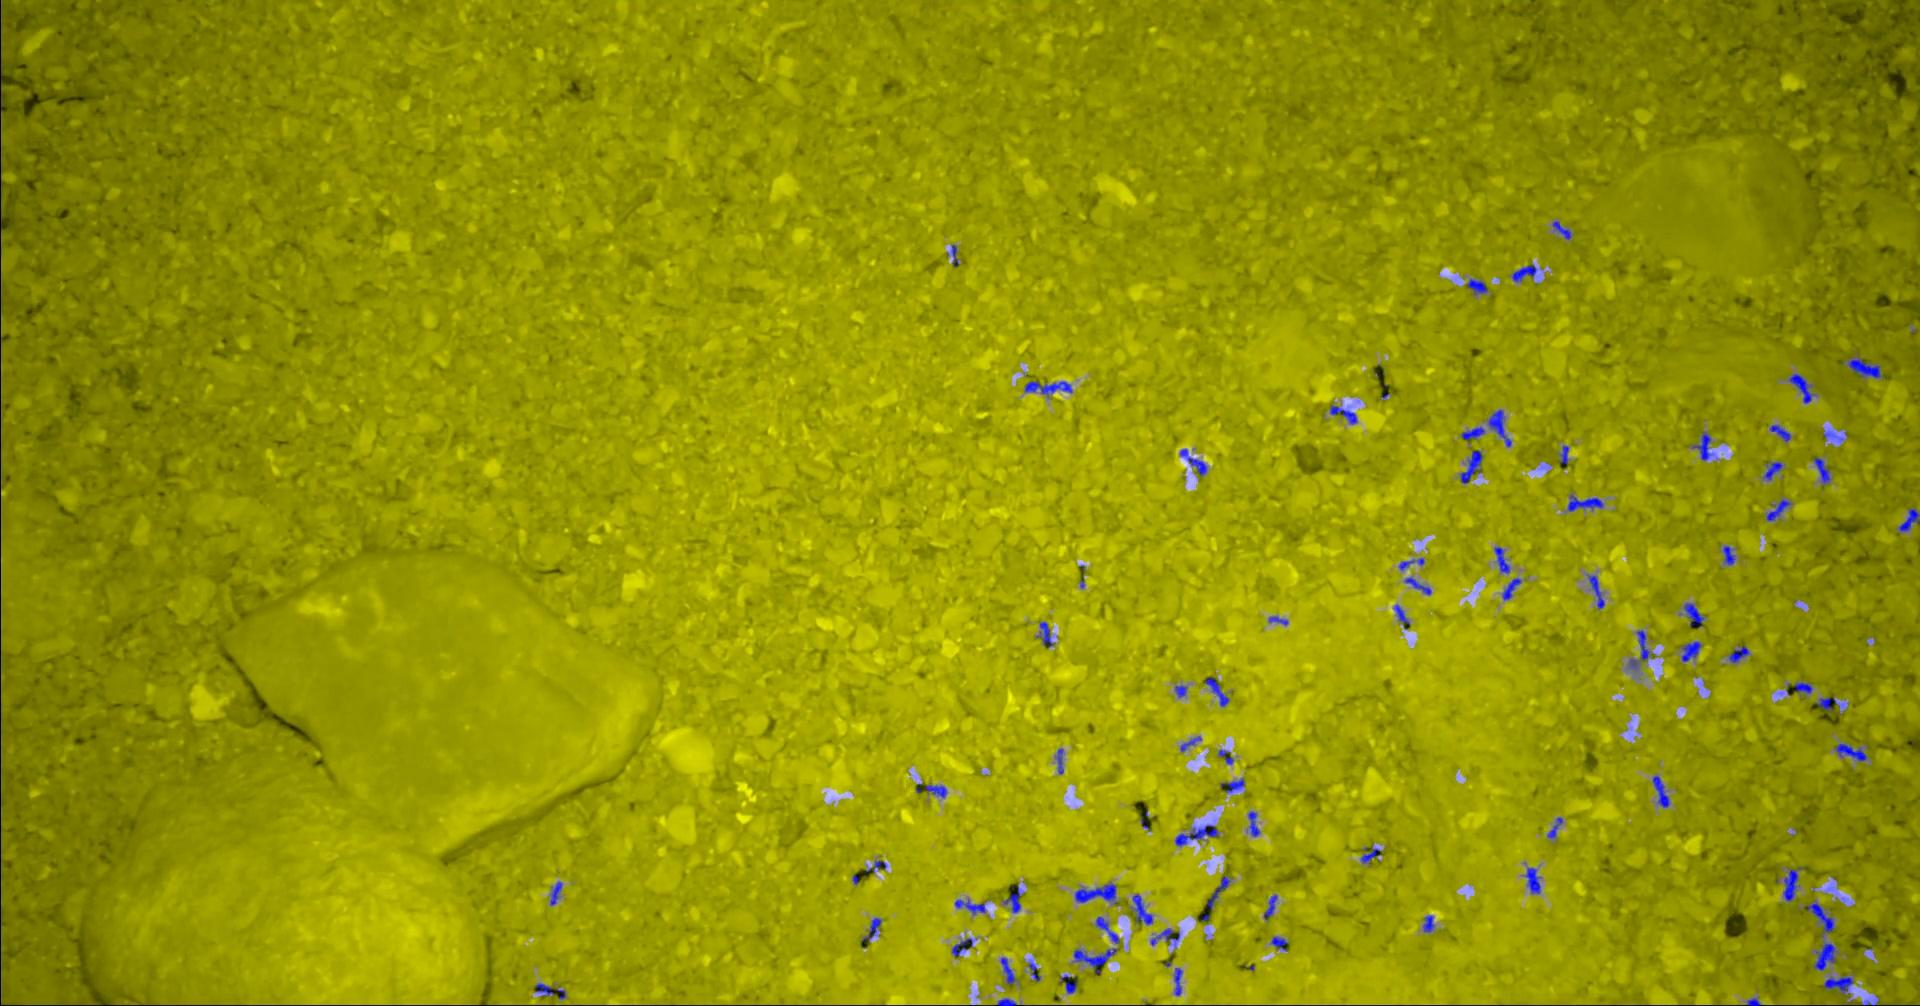ant: (1073, 948, 1116, 973), (1806, 902, 1834, 937), (1487, 409, 1511, 447), (1175, 824, 1218, 845), (1627, 630, 1650, 668), (1074, 883, 1116, 903), (1206, 875, 1230, 909), (1787, 373, 1813, 403), (1459, 450, 1482, 483), (1178, 448, 1206, 475), (1204, 676, 1228, 706), (1023, 380, 1070, 395), (1848, 358, 1882, 377), (1095, 916, 1119, 942), (1691, 431, 1712, 460), (1131, 894, 1152, 923), (1567, 494, 1603, 511), (1815, 942, 1835, 970), (1823, 976, 1853, 995), (1683, 602, 1704, 627), (1835, 743, 1867, 760), (1652, 775, 1669, 807), (1765, 499, 1790, 520), (1330, 405, 1356, 424), (1589, 575, 1604, 608), (1783, 868, 1798, 901), (1150, 927, 1178, 945), (861, 917, 881, 941), (954, 899, 985, 915), (951, 937, 977, 956), (1404, 577, 1431, 594), (1898, 508, 1919, 531), (1813, 457, 1829, 486), (916, 782, 946, 796), (1511, 264, 1537, 281), (1035, 621, 1051, 647), (1003, 887, 1020, 912), (1493, 546, 1509, 573), (1502, 577, 1520, 600), (1550, 220, 1571, 239), (1763, 461, 1783, 480), (1681, 641, 1702, 661), (1525, 868, 1540, 893), (1393, 605, 1410, 627), (1001, 956, 1015, 983), (1360, 845, 1380, 862), (1769, 424, 1790, 441), (1547, 815, 1562, 838), (1220, 779, 1244, 793), (1263, 894, 1277, 918), (1728, 645, 1749, 662), (1465, 278, 1487, 293), (1180, 735, 1201, 751), (1398, 558, 1423, 570), (1462, 426, 1484, 439), (1059, 976, 1077, 993), (1815, 696, 1836, 710), (1247, 810, 1258, 836), (549, 882, 561, 904), (1722, 545, 1735, 565), (1270, 936, 1288, 950), (1173, 967, 1182, 995), (865, 860, 886, 871), (1029, 960, 1040, 981), (1217, 749, 1233, 763), (535, 983, 552, 996), (1794, 682, 1812, 694), (1422, 915, 1434, 932), (1175, 683, 1187, 697), (1559, 445, 1568, 464), (1057, 748, 1063, 774), (996, 998, 1016, 1005)
